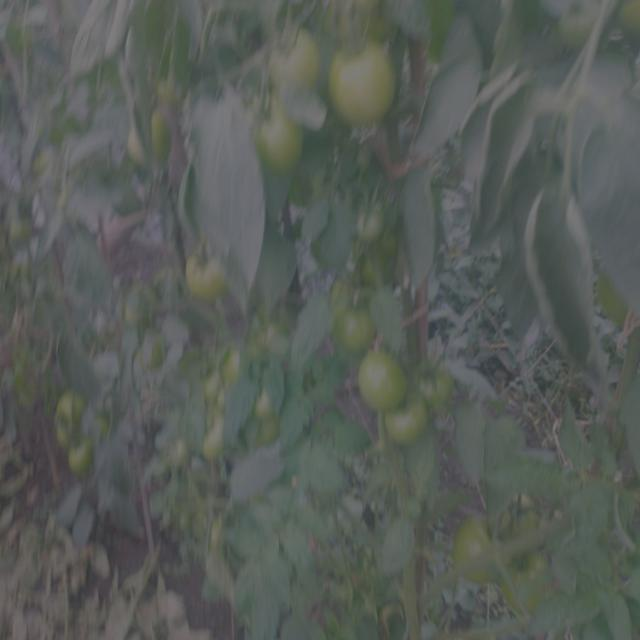tomato: (327, 26, 401, 124), (247, 101, 308, 172), (264, 18, 318, 97), (182, 245, 235, 305), (356, 345, 405, 409), (447, 509, 495, 574), (124, 108, 175, 168), (382, 400, 436, 451), (411, 360, 460, 410), (499, 545, 553, 589), (332, 303, 377, 355), (347, 197, 391, 250), (498, 487, 546, 535), (3, 201, 42, 254), (196, 409, 229, 462), (247, 322, 291, 358), (48, 392, 80, 440), (62, 436, 96, 478), (118, 288, 150, 327), (150, 63, 184, 99), (198, 357, 227, 393), (141, 337, 169, 371), (254, 389, 275, 422)
